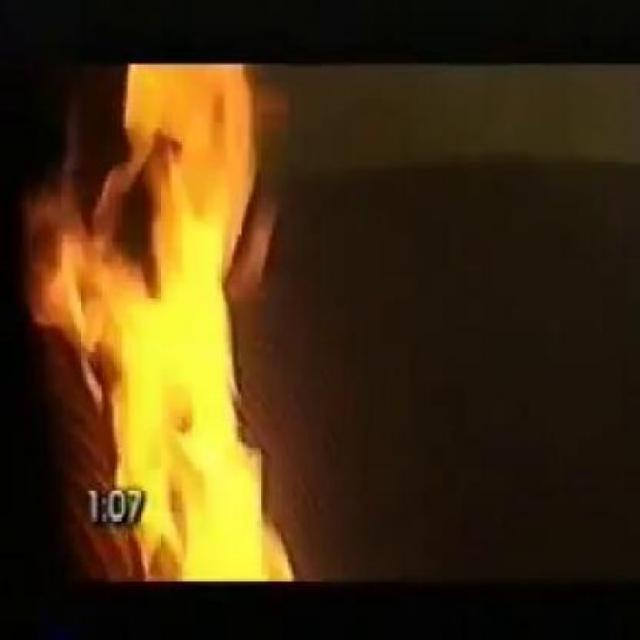fire: (22, 56, 324, 582)
